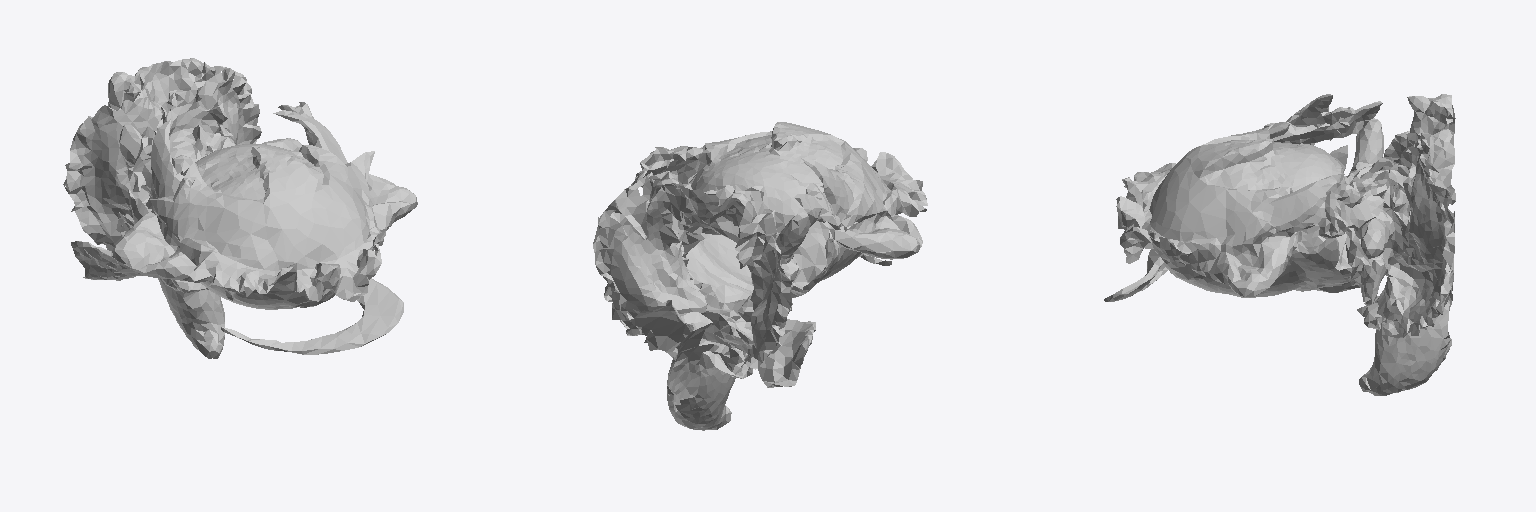
Rendered from sakuyainu.obj.
The picture shows the model from 3 angles: view 1: azimuth 30°, elevation 25°; view 2: azimuth 150°, elevation 25°; view 3: azimuth 270°, elevation 25°; orthographic projection.
Visible parts, largest first — view 1: sakuya_low; view 2: sakuya_low; view 3: sakuya_low.
Boxes of the visible parts, <box> form: sakuya_low: <box>63,58,417,358</box>; sakuya_low: <box>593,122,927,430</box>; sakuya_low: <box>1104,94,1455,395</box>.
Size of the model in its own units: 22.9 by 20.47 by 23.96.